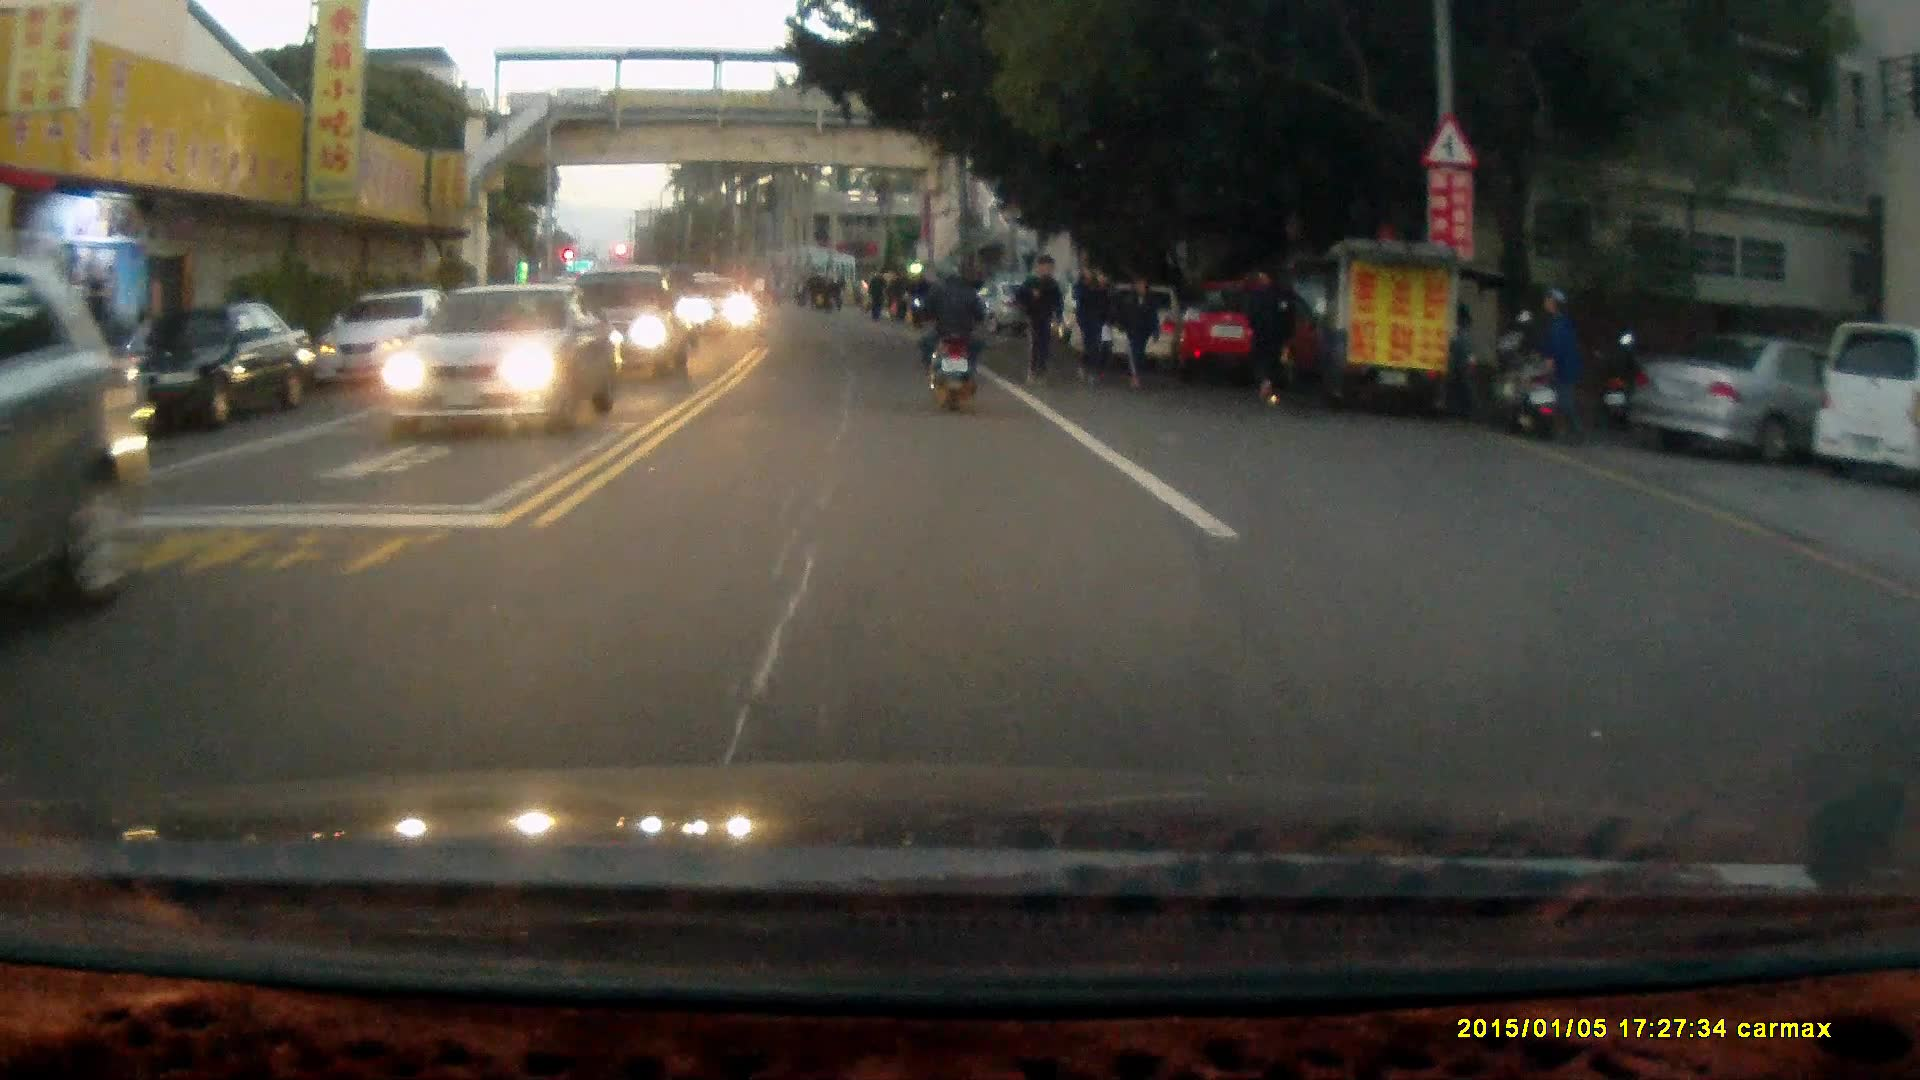pedestrian: (1239, 261, 1298, 411), (1530, 280, 1584, 440), (1014, 255, 1067, 391), (1120, 269, 1164, 394), (1070, 257, 1107, 387)
rider: (912, 257, 992, 418)
vehicle: (1, 265, 153, 616), (1635, 328, 1920, 465), (384, 286, 618, 435), (1174, 282, 1327, 390), (570, 266, 694, 384)
